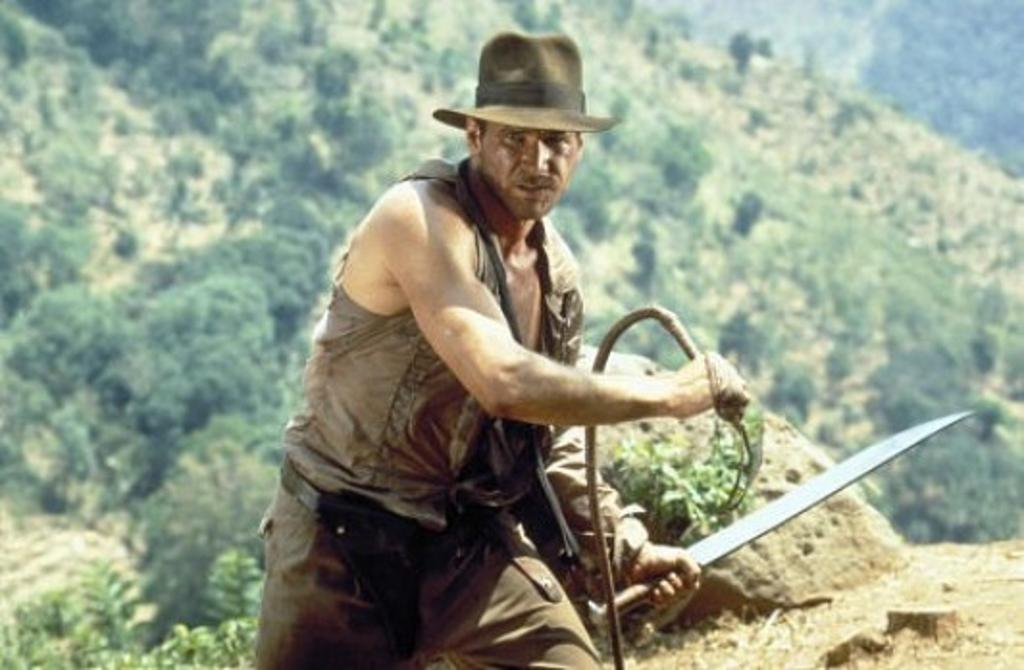face: (482, 98, 574, 214)
